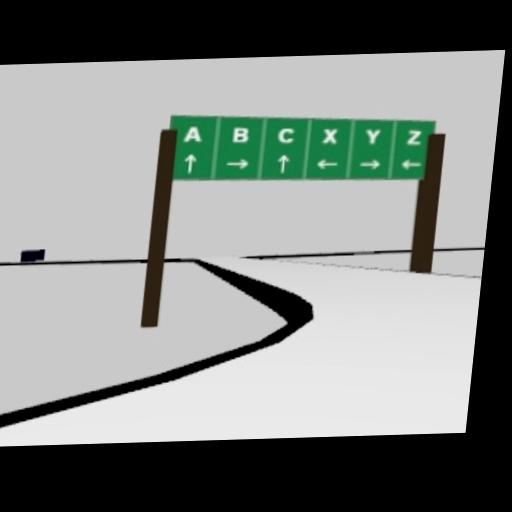A: (183, 123, 203, 141)
B: (230, 126, 249, 141)
C: (277, 125, 296, 143)
Left: (315, 155, 339, 168), (400, 156, 422, 169)
Right: (224, 157, 248, 168), (358, 158, 380, 169)
Straight: (183, 152, 197, 172), (275, 153, 289, 171)
X: (321, 126, 337, 144)
Y: (363, 127, 380, 144)
Z: (405, 129, 422, 144)
